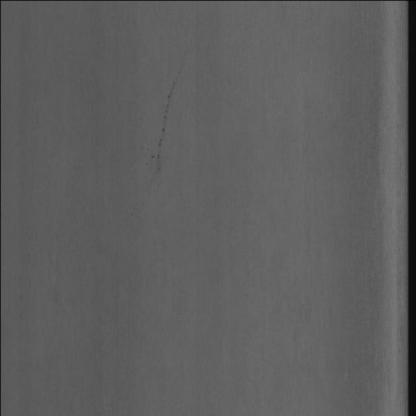water_spot: (149, 78, 179, 182)
